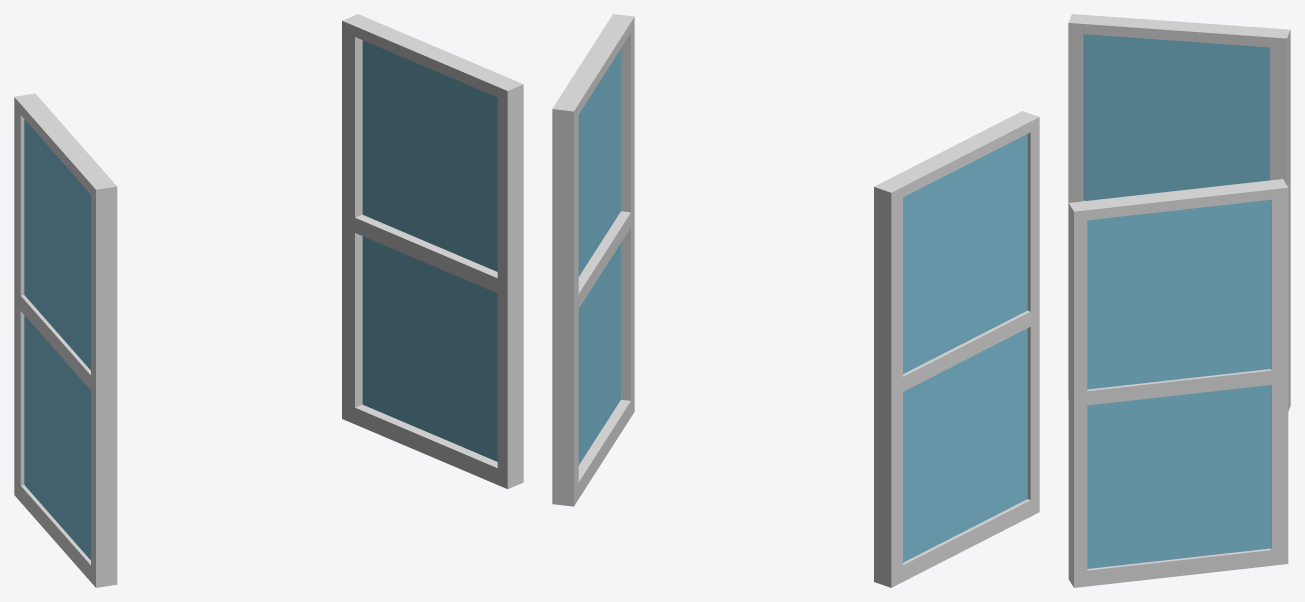
Rendered from Window_open.fbx.
3 renders of one model, left to right at view 1: azimuth 30°, elevation 25°; view 2: azimuth 150°, elevation 25°; view 3: azimuth 270°, elevation 25°, orthographic. The views are drawn at different scales.
Visible parts, largest first — view 1: WindowRight.001, WindoeLeft.001; view 2: WindoeLeft.001, WindowRight.001; view 3: WindowRight.001, WindoeLeft.001.
Part boxes in pixels (x1,y1,x2,y2): WindowRight.001: [342, 14, 523, 489]; WindoeLeft.001: [14, 93, 117, 587]; WindoeLeft.001: [874, 111, 1039, 587]; WindowRight.001: [552, 14, 634, 506]; WindowRight.001: [1068, 179, 1288, 587]; WindoeLeft.001: [1068, 14, 1290, 410].
Bounding box in the file's own units: 1.52 × 1.35 × 0.7243.
